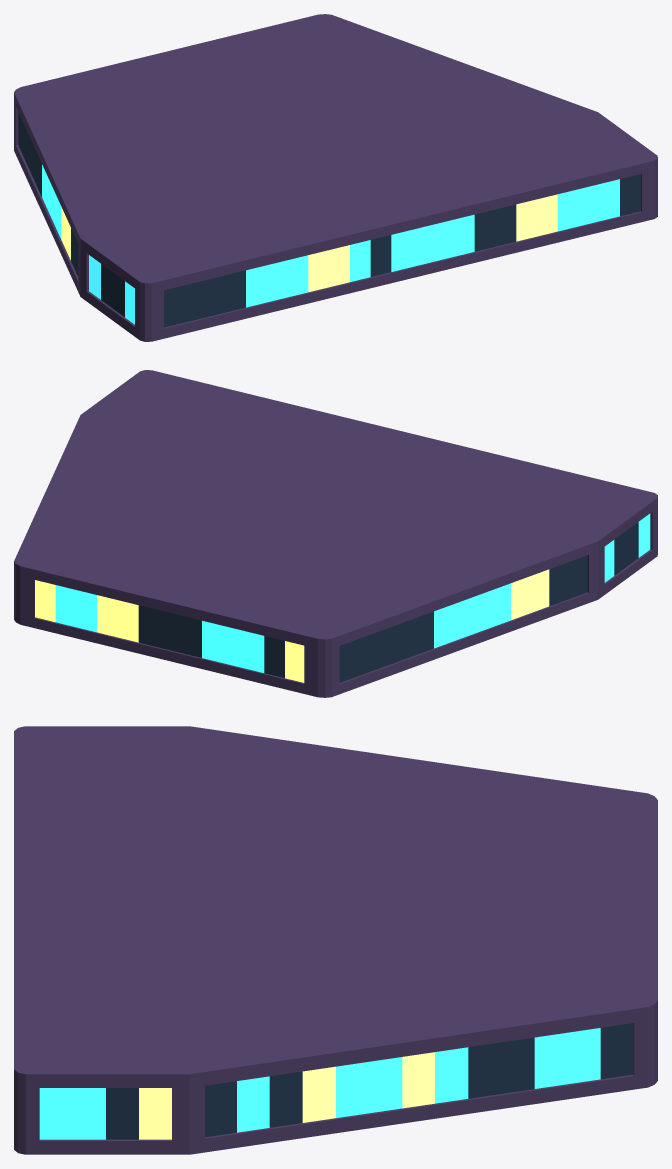
File: GrandBat Stage3.fbx
The picture shows the model from 3 angles, top to bottom: view 1: azimuth 30°, elevation 25°; view 2: azimuth 150°, elevation 25°; view 3: azimuth 270°, elevation 25°; orthographic projection. The views are drawn at different scales.
Parts seen in each view (by area): view 1: Stage 1; view 2: Stage 1; view 3: Stage 1.
Part boxes in pixels (<box>): Stage 1: <box>14,14,657,341</box>; Stage 1: <box>14,370,657,697</box>; Stage 1: <box>14,726,657,1154</box>.
Size of the model in its own units: 996 by 108 by 779.
